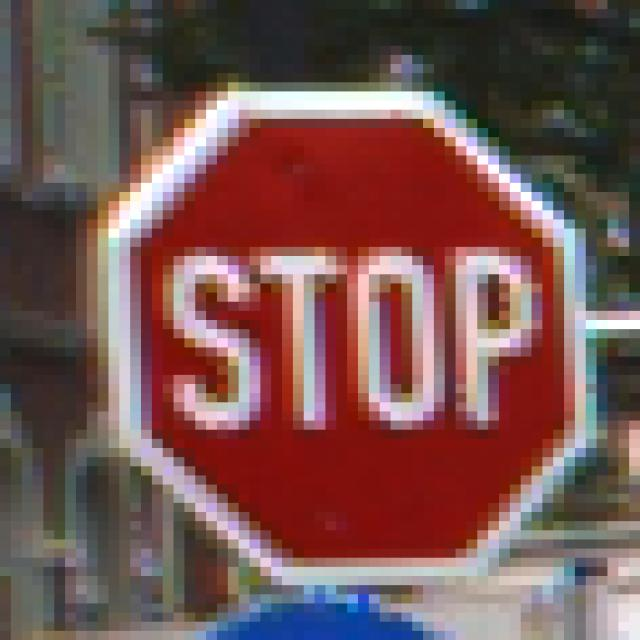STOP: (66, 65, 587, 586)
